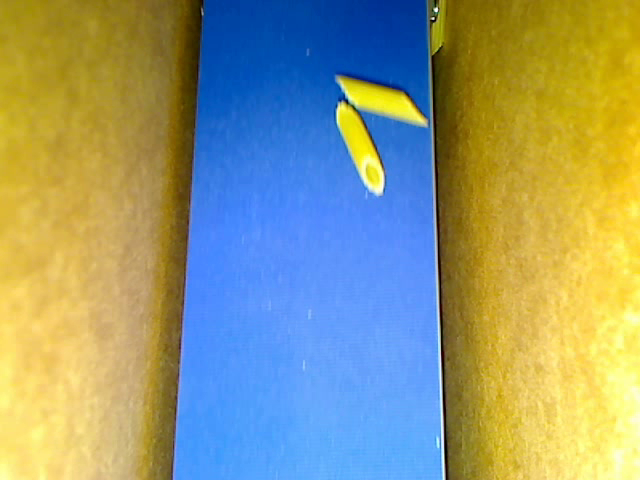penne: (327, 101, 388, 194), (335, 71, 426, 121), (425, 1, 455, 59)
